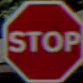Stop: (5, 7, 78, 69)
